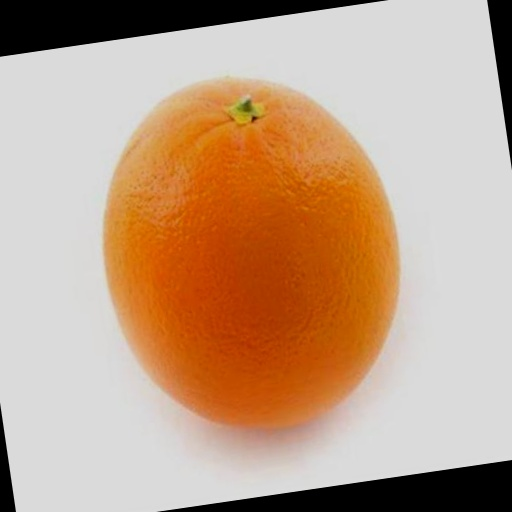fruit: (104, 78, 398, 427)
